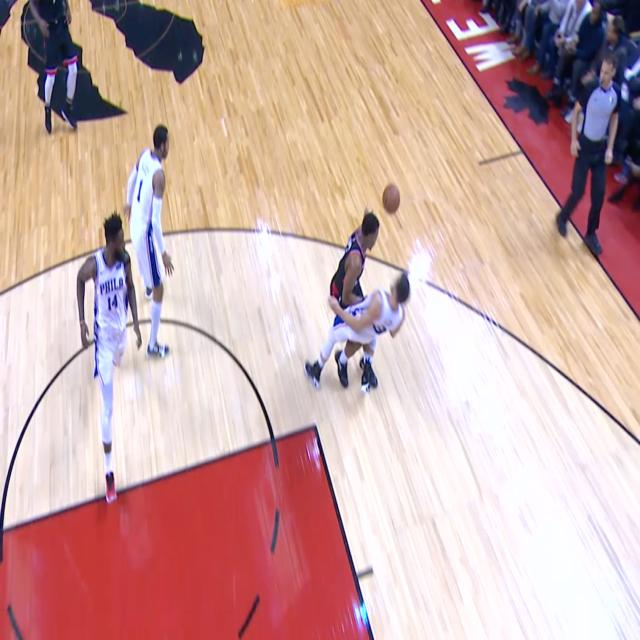Foul: (329, 220, 402, 342)
